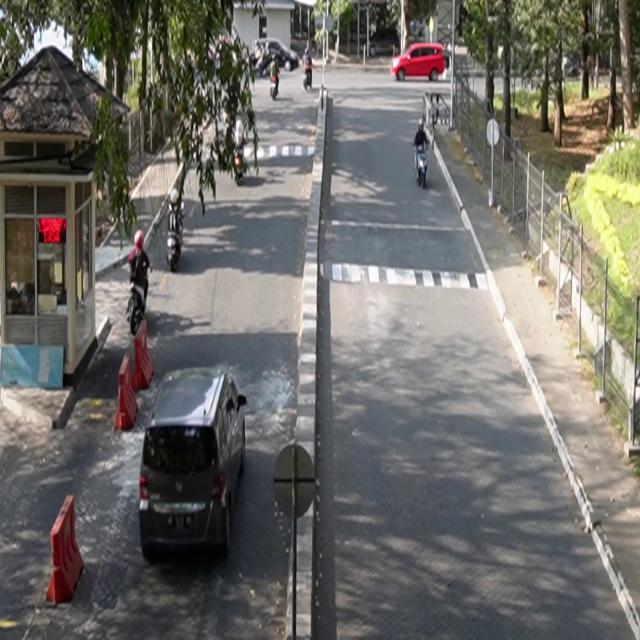car: (139, 367, 249, 561), (391, 43, 447, 82)
